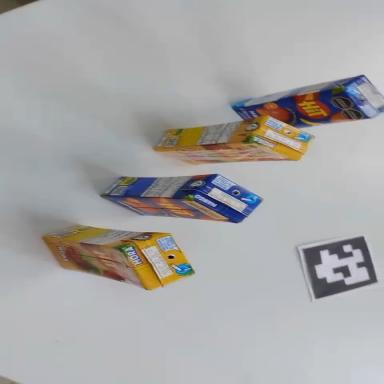HIT-MANGO: (230, 72, 384, 143), (101, 171, 262, 223)
HIT-MORA: (40, 223, 197, 293), (153, 114, 313, 165)
cara_F: (232, 84, 371, 137), (37, 236, 153, 290), (100, 195, 237, 223), (154, 140, 296, 166)
